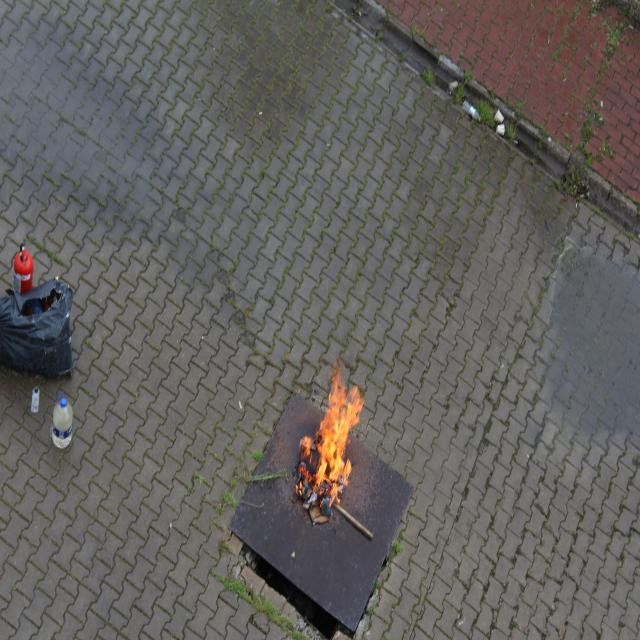fire: (301, 371, 363, 524)
